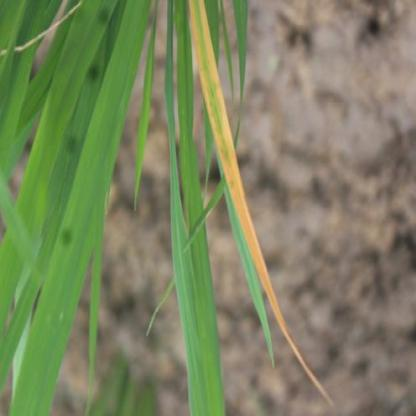Tungro: (177, 1, 283, 310)
